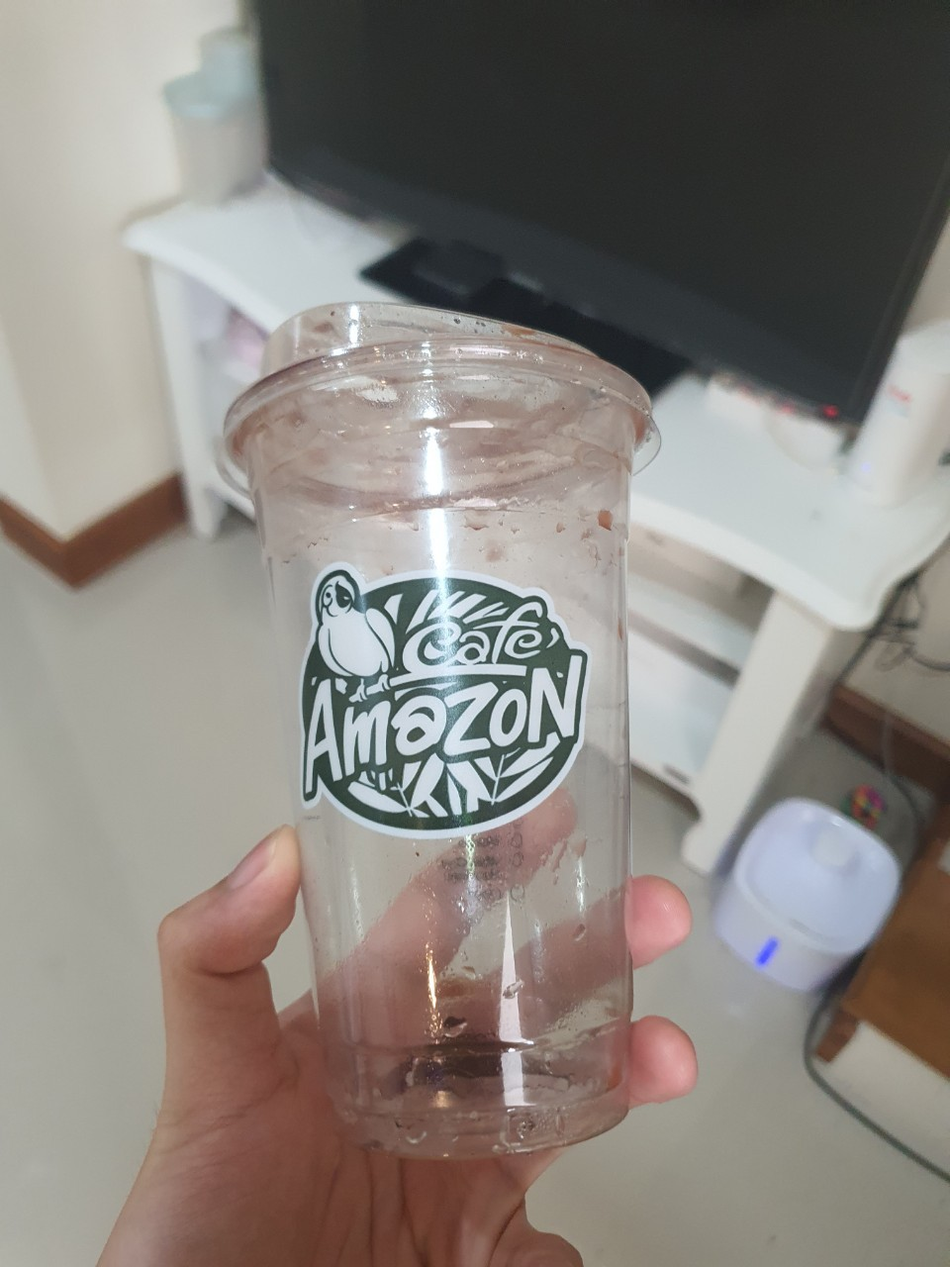plastic: (191, 279, 686, 1168)
